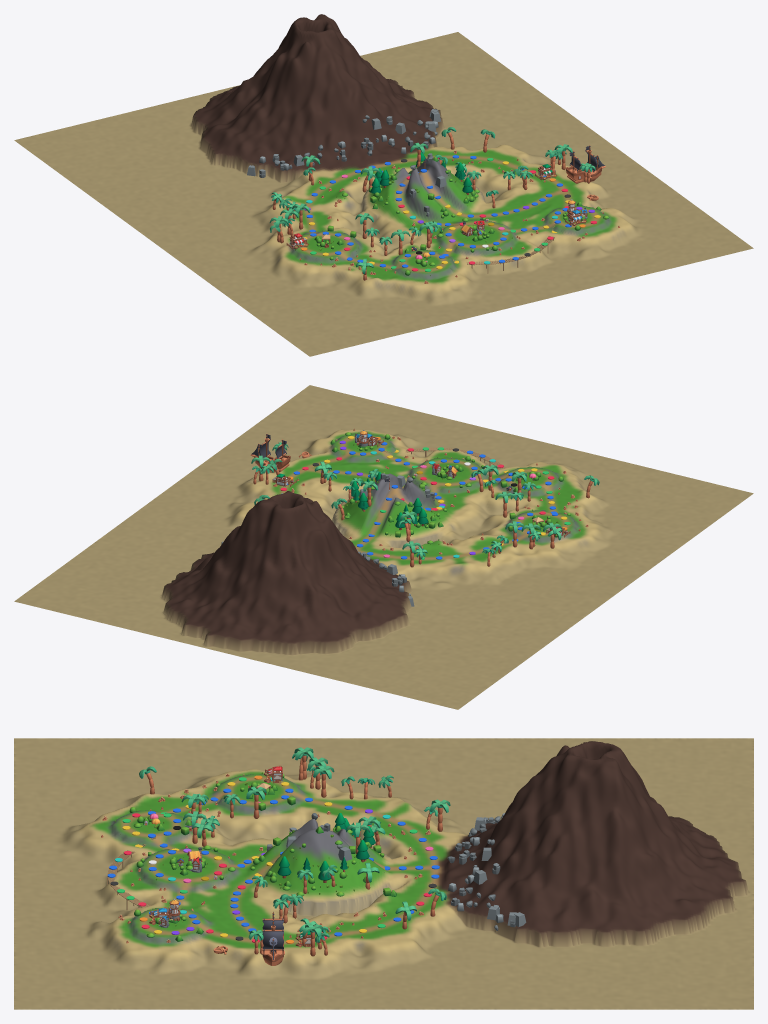
File: ilha.glb
The picture shows the model from 3 angles, top to bottom: view 1: azimuth 30°, elevation 25°; view 2: azimuth 150°, elevation 25°; view 3: azimuth 270°, elevation 25°; orthographic projection. The views are drawn at different scales.
Parts seen in each view (by area): view 1: terreno, ship-pirate-medium; view 2: terreno, ship-pirate-medium; view 3: terreno, ship-pirate-medium, ponte.
Boxes of the visible parts, x1=… form: terreno: x1=14, y1=14, x2=753, y2=356; ship-pirate-medium: x1=566, y1=145, x2=605, y2=183; terreno: x1=14, y1=385, x2=753, y2=709; ship-pirate-medium: x1=250, y1=433, x2=290, y2=472; terreno: x1=14, y1=738, x2=753, y2=1009; ship-pirate-medium: x1=261, y1=912, x2=284, y2=965; ponte: x1=107, y1=834, x2=155, y2=910.
Size of the model in its own units: 145 by 32.74 by 167.
60 materials, 45 textured.
